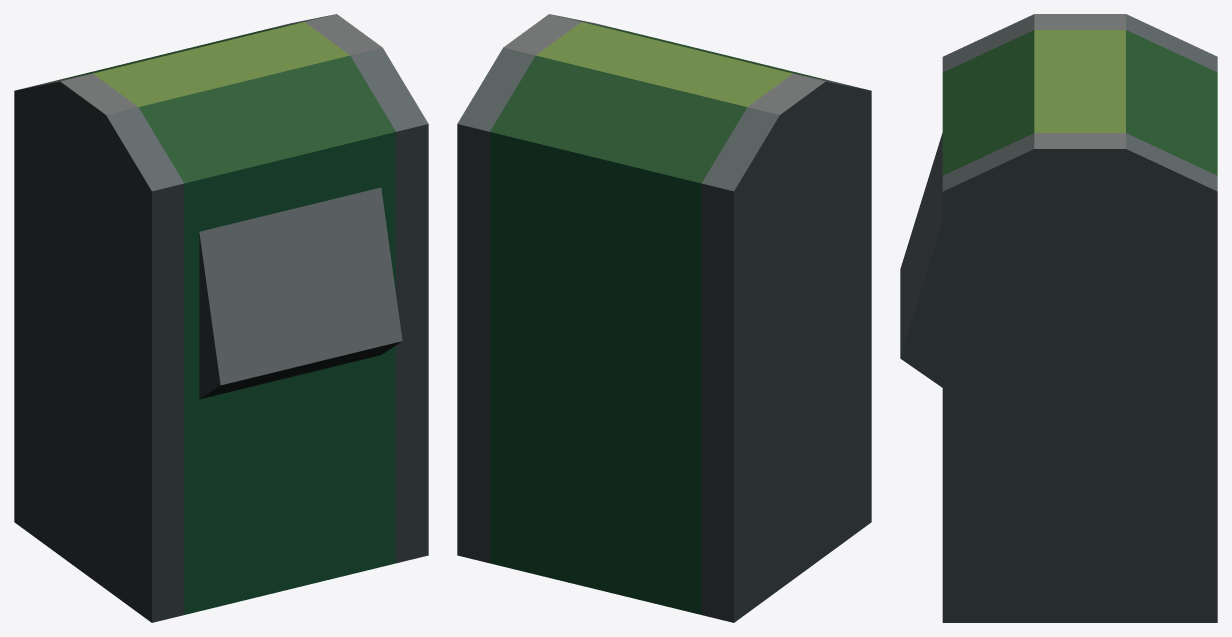
Rendered from TB_CITY_Prop_GarbageCan_A.FBX.
The picture shows the model from 3 angles, left to right: view 1: azimuth 30°, elevation 25°; view 2: azimuth 150°, elevation 25°; view 3: azimuth 270°, elevation 25°; orthographic projection.
Visible parts, largest first — view 1: TB_CITY_Prop_GarbageCan_A; view 2: TB_CITY_Prop_GarbageCan_A; view 3: TB_CITY_Prop_GarbageCan_A.
Boxes of the visible parts, left/top/right/bottom form: TB_CITY_Prop_GarbageCan_A: left=14, top=14, right=428, bottom=622; TB_CITY_Prop_GarbageCan_A: left=457, top=14, right=871, bottom=622; TB_CITY_Prop_GarbageCan_A: left=900, top=14, right=1217, bottom=622.
Size of the model in its own units: 0.9048 by 1.48 by 0.8999.
